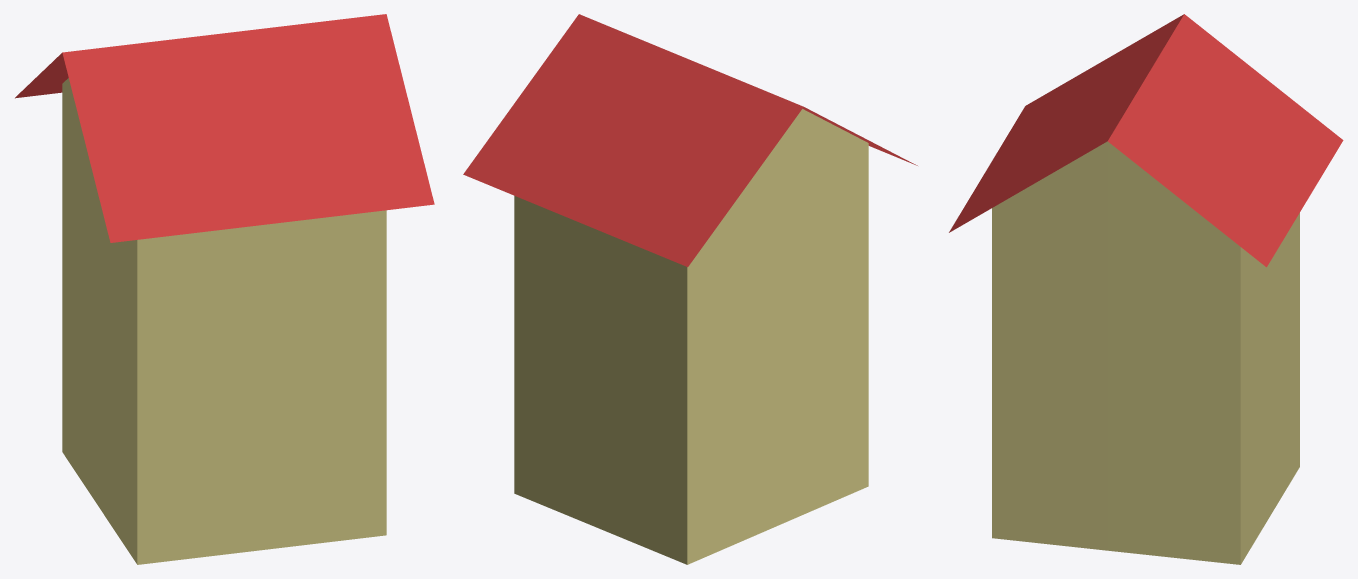
3 views of the same model, side by side, from view 1: azimuth 30°, elevation 25°; view 2: azimuth 150°, elevation 25°; view 3: azimuth 270°, elevation 25° (orthographic). The views are drawn at different scales.
Bounding box in the file's own units: 5.32 × 5.5 × 6.53.
